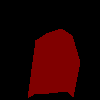abbigliamento_uomo: (27, 28, 80, 98)
